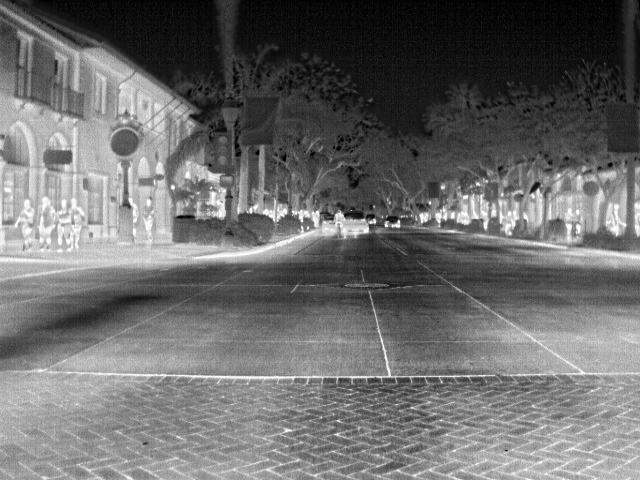car: (341, 211, 369, 235), (321, 214, 339, 230), (383, 216, 402, 230), (364, 214, 379, 226)
person: (14, 195, 37, 254), (37, 195, 58, 252), (57, 197, 75, 252), (72, 196, 88, 251), (142, 194, 158, 242), (564, 206, 577, 240), (571, 208, 583, 239)
